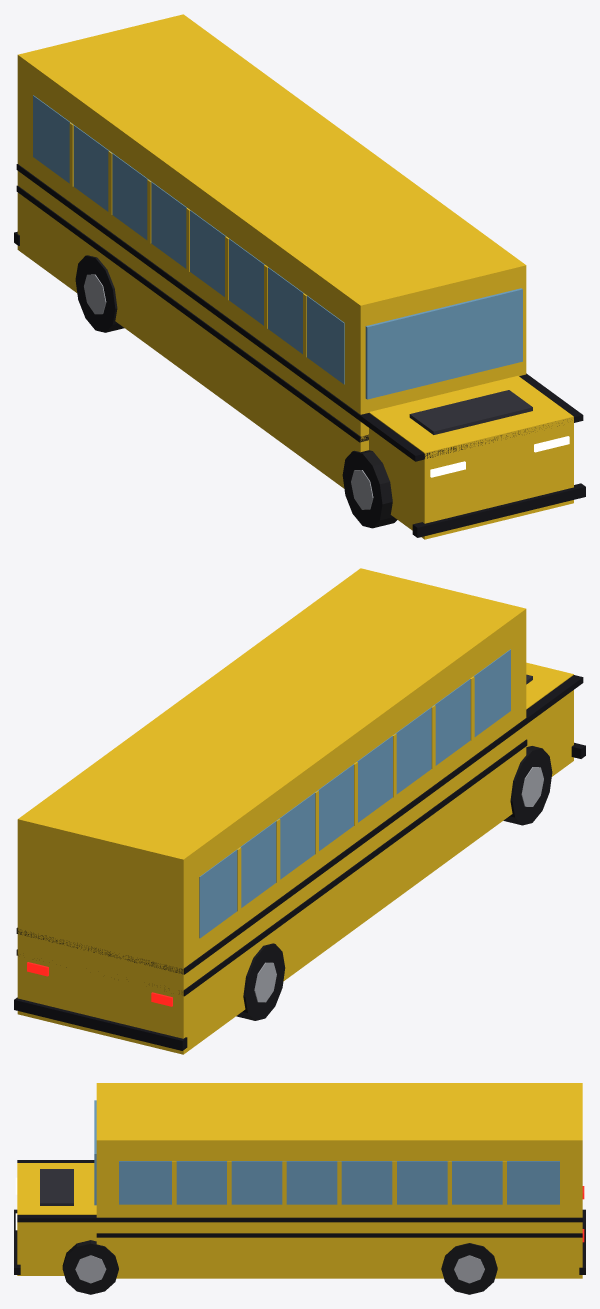
File: school_bus.glb
3 renders of one model, top to bottom at view 1: azimuth 30°, elevation 25°; view 2: azimuth 150°, elevation 25°; view 3: azimuth 270°, elevation 25°, orthographic. The views are drawn at different scales.
Parts seen in each view (by area): view 1: school_bus; view 2: school_bus; view 3: school_bus.
Part boxes in pixels (box(x1,y1,x2,y2)): school_bus: box(14, 14, 585, 539); school_bus: box(14, 568, 585, 1054); school_bus: box(14, 1083, 585, 1294).
Bounding box in the file's own units: 2.48 × 3 × 10.12.
